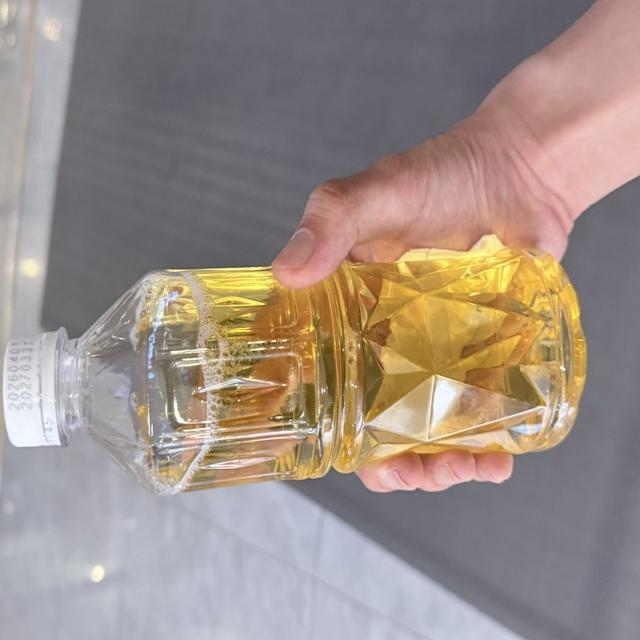high: (2, 238, 585, 493)
